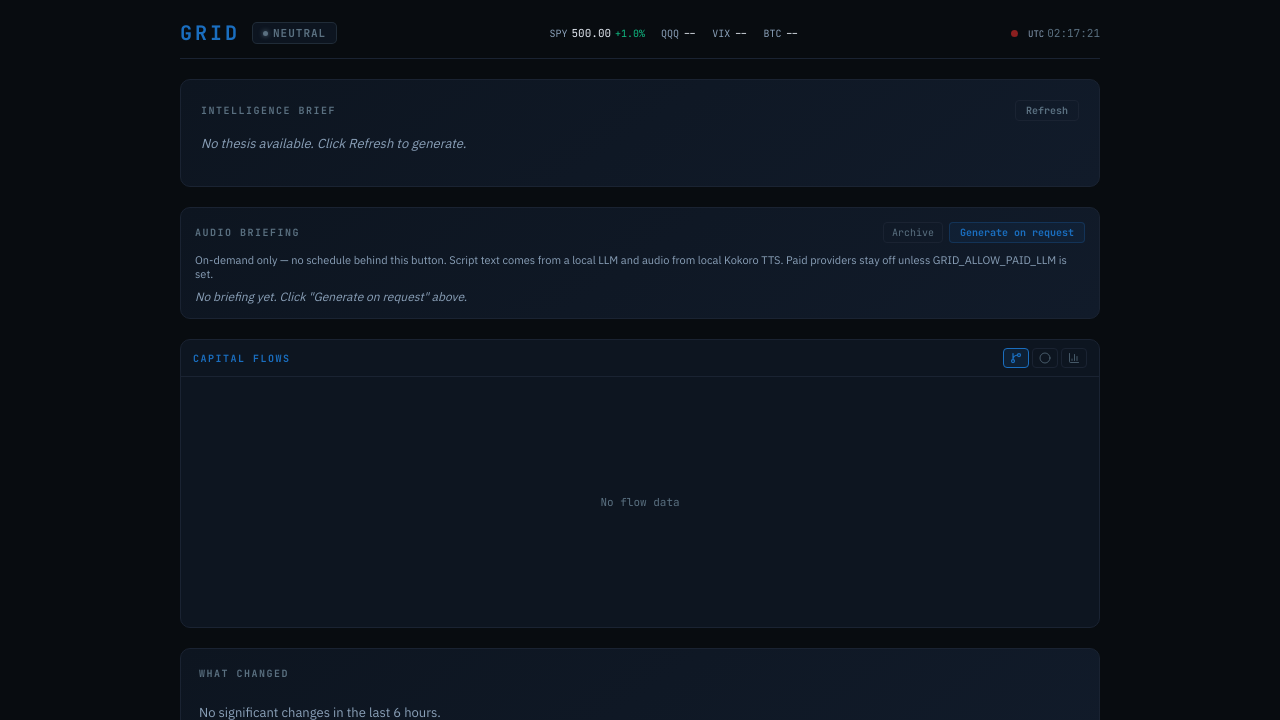
Test: Dashboard watchlist loading › says the local TTS is unavailable when Kokoro did not answer (never a fake success)
Click the button "Generate on request" at (1017, 232), box top-left (949, 222), bottom-right (1085, 243)
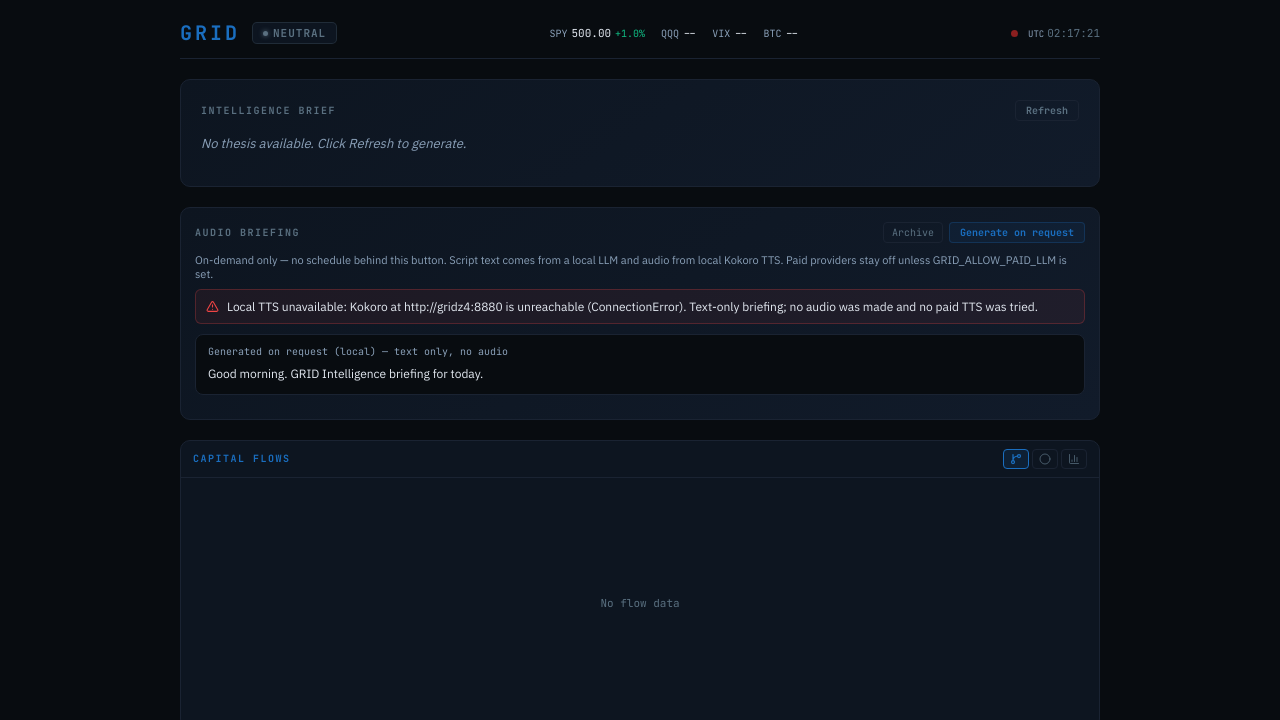
expect the text "Local TTS unavailable: Kokoro" is shown: met, box top-left (227, 299), bottom-right (1038, 314)
expect the element with test id "text-briefing" is shown: met, box top-left (195, 334), bottom-right (1085, 395)
